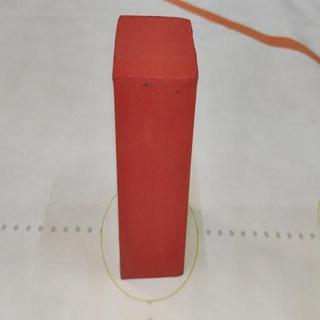redbox: (111, 13, 199, 282)
